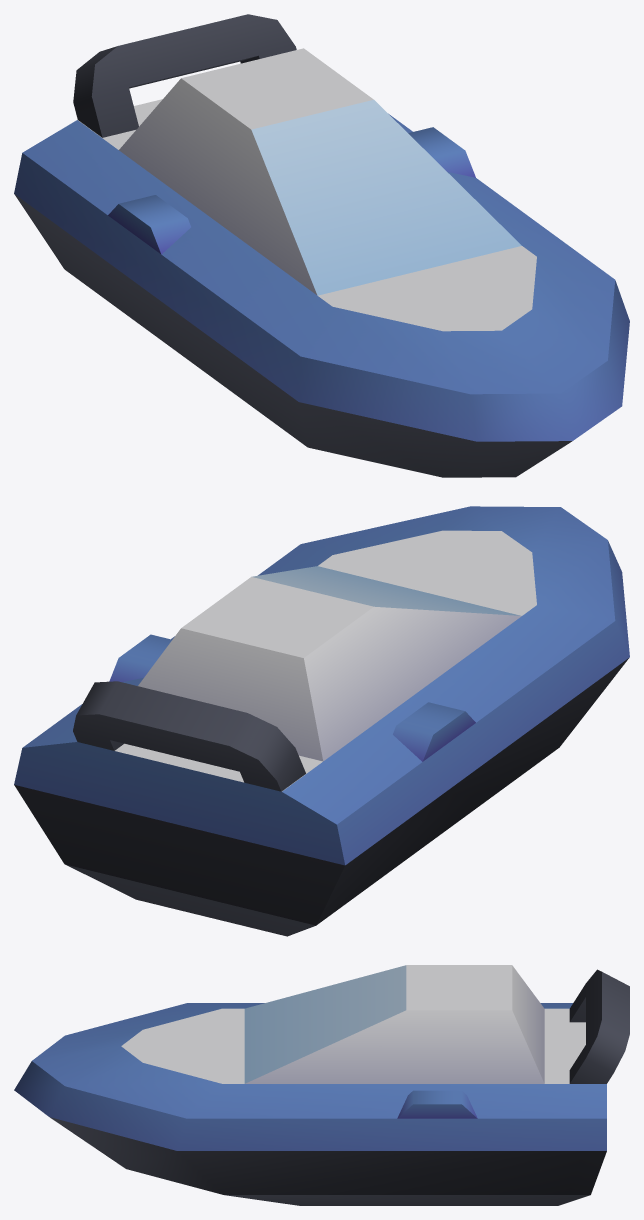
The model's file is boat-speed-g.glb.
The picture shows the model from 3 angles, top to bottom: view 1: azimuth 30°, elevation 25°; view 2: azimuth 150°, elevation 25°; view 3: azimuth 270°, elevation 25°; orthographic projection. The views are drawn at different scales.
Parts seen in each view (by area): view 1: boat-speed-g; view 2: boat-speed-g; view 3: boat-speed-g.
Boxes of the visible parts, left/top/right/bottom form: boat-speed-g: left=14, top=14, right=629, bottom=477; boat-speed-g: left=14, top=506, right=629, bottom=936; boat-speed-g: left=14, top=965, right=629, bottom=1205.
Size of the model in its own units: 1.78 by 1.3 by 3.81.
